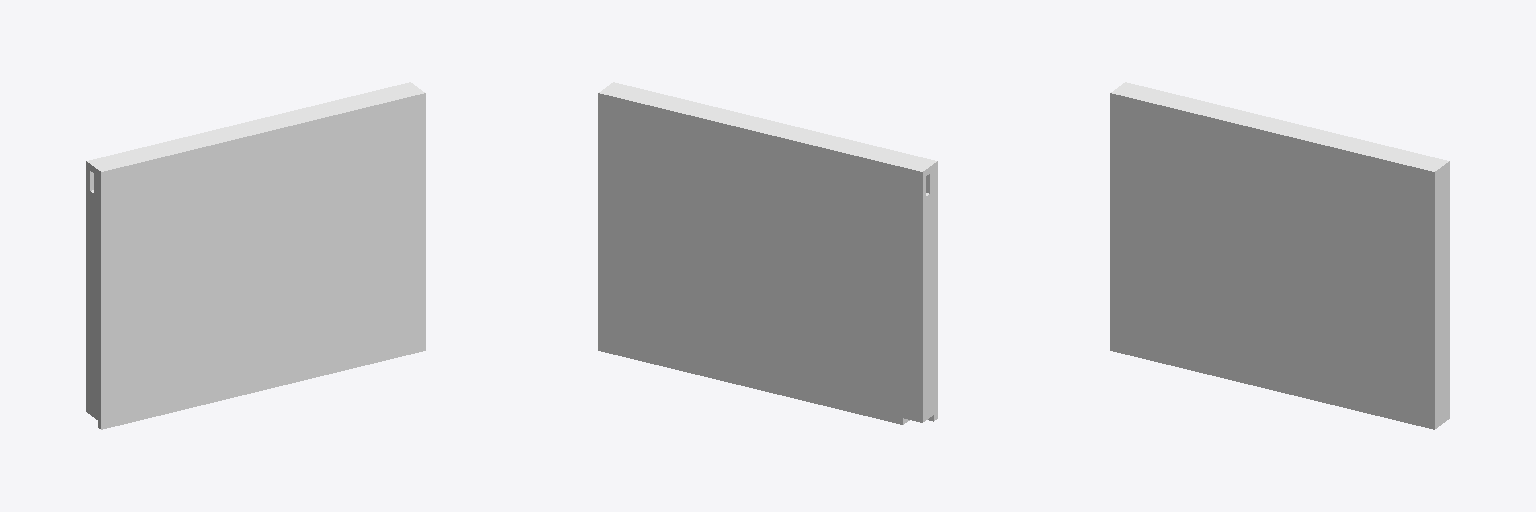
The model's file is apt-wall-bathroom.obj.
3 views of the same model, side by side, from view 1: azimuth 30°, elevation 25°; view 2: azimuth 150°, elevation 25°; view 3: azimuth 330°, elevation 25° (orthographic).
Visible parts, largest first — view 1: apt:wall-bathroom; view 2: apt:wall-bathroom; view 3: apt:wall-bathroom.
Boxes of the visible parts, x1,y1,x2,y2 form: apt:wall-bathroom: [86, 82, 425, 429]; apt:wall-bathroom: [598, 82, 937, 424]; apt:wall-bathroom: [1110, 82, 1449, 429].
Size of the model in its own units: 50 by 38 by 4.